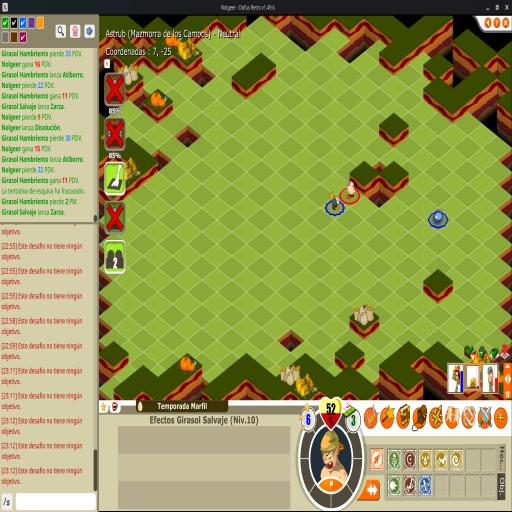Enemigos: (329, 190, 341, 212), (432, 209, 445, 224)
Personaje: (346, 181, 356, 200)
